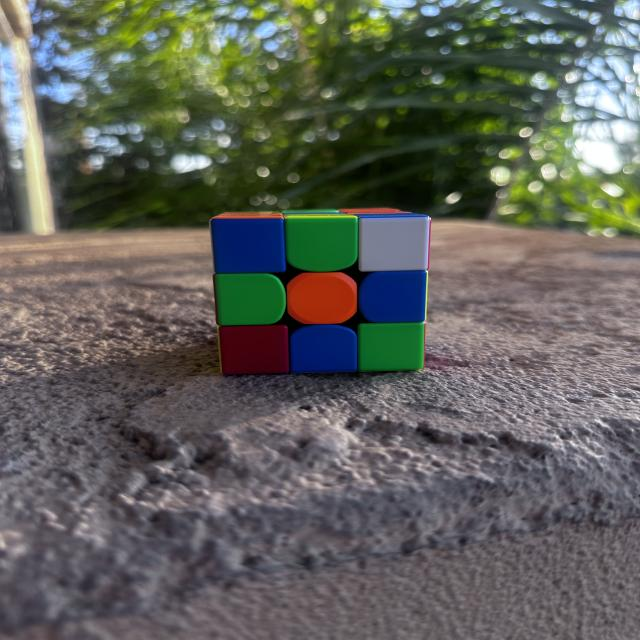sticker: (211, 212, 288, 275), (283, 213, 359, 274), (356, 213, 431, 274), (216, 323, 292, 376), (214, 272, 287, 327), (286, 271, 359, 326), (358, 270, 428, 325), (357, 322, 426, 372), (290, 324, 358, 374), (338, 208, 403, 214), (281, 209, 342, 215)
